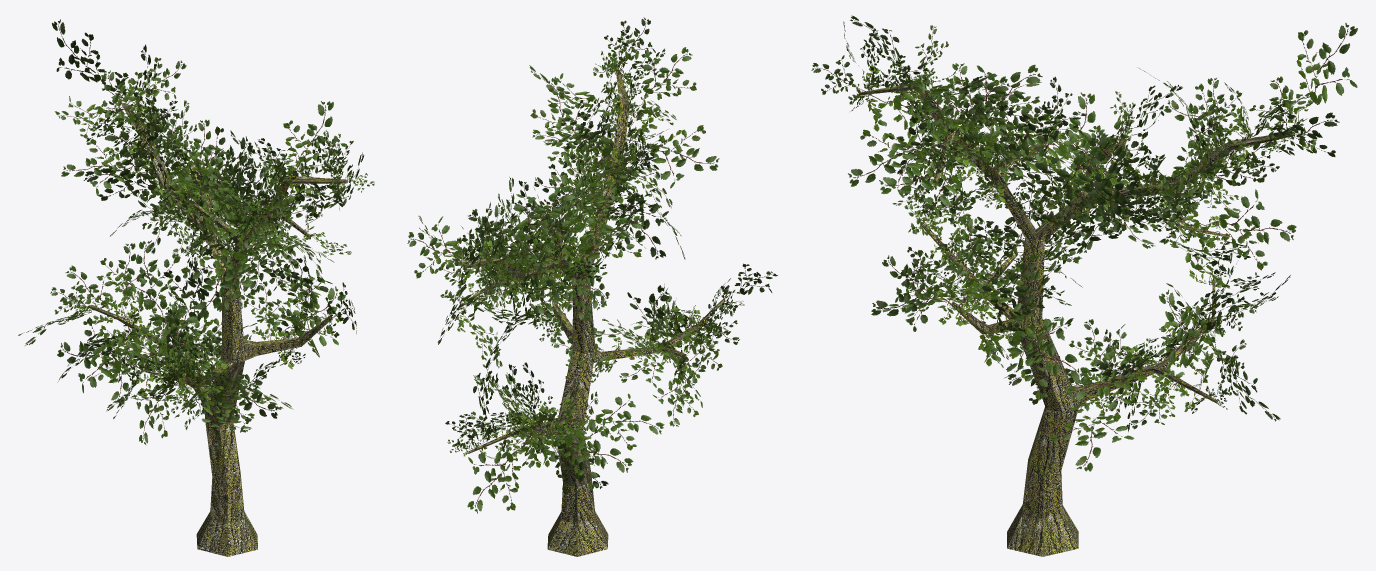
The model's file is Tree_1.fbx.
3 views of the same model, side by side, from view 1: azimuth 30°, elevation 25°; view 2: azimuth 150°, elevation 25°; view 3: azimuth 270°, elevation 25° (orthographic). The views are drawn at different scales.
Visible parts, largest first — view 1: Tree, Tree|Tree Branch|Dupli|113, Tree|Tree Branch|Dupli|188, Tree|Tree Branch|Dupli|193, Tree|Tree Branch|Dupli|176, Tree|Tree Branch|Dupli|99, Tree|Tree Branch|Dupli|44, Tree|Tree Branch|Dupli|67, Tree|Tree Branch|Dupli|52, Tree|Tree Branch|Dupli|55, Tree|Tree Branch|Dupli|10, Tree|Tree Branch|Dupli|85 (+38 smaller); view 2: Tree, Tree|Tree Branch|Dupli|68, Tree|Tree Branch|Dupli|23, Tree|Tree Branch|Dupli|46, Tree|Tree Branch|Dupli|71, Tree|Tree Branch|Dupli|171, Tree|Tree Branch|Dupli|35, Tree|Tree Branch|Dupli|97, Tree|Tree Branch|Dupli|130, Tree|Tree Branch|Dupli|108, Tree|Tree Branch|Dupli|111, Tree|Tree Branch|Dupli|176 (+34 smaller); view 3: Tree, Tree|Tree Branch|Dupli|58, Tree|Tree Branch|Dupli|99, Tree|Tree Branch|Dupli|92, Tree|Tree Branch|Dupli|31, Tree|Tree Branch|Dupli|167, Tree|Tree Branch|Dupli|144, Tree|Tree Branch|Dupli|117, Tree|Tree Branch|Dupli|64, Tree|Tree Branch|Dupli|111, Tree|Tree Branch|Dupli|160, Tree|Tree Branch|Dupli|105 (+35 smaller).
Boxes of the visible parts, x1,y1,x2,y2 form: Tree: (88, 102, 348, 556); Tree|Tree Branch|Dupli|113: (181, 222, 282, 319); Tree|Tree Branch|Dupli|188: (57, 317, 150, 398); Tree|Tree Branch|Dupli|193: (183, 365, 277, 432); Tree|Tree Branch|Dupli|176: (129, 289, 226, 379); Tree|Tree Branch|Dupli|99: (52, 19, 128, 115); Tree|Tree Branch|Dupli|44: (267, 101, 346, 193); Tree|Tree Branch|Dupli|67: (115, 240, 180, 345); Tree|Tree Branch|Dupli|52: (269, 258, 332, 334); Tree|Tree Branch|Dupli|55: (268, 283, 345, 369); Tree|Tree Branch|Dupli|10: (61, 139, 164, 195); Tree|Tree Branch|Dupli|85: (83, 156, 193, 214); Tree: (456, 68, 725, 556); Tree|Tree Branch|Dupli|68: (536, 406, 633, 490); Tree|Tree Branch|Dupli|23: (481, 185, 579, 269); Tree|Tree Branch|Dupli|46: (613, 117, 719, 188); Tree|Tree Branch|Dupli|71: (467, 415, 541, 513); Tree|Tree Branch|Dupli|171: (562, 393, 664, 450); Tree|Tree Branch|Dupli|35: (612, 47, 696, 117); Tree|Tree Branch|Dupli|97: (407, 216, 492, 283); Tree|Tree Branch|Dupli|130: (543, 209, 645, 278); Tree|Tree Branch|Dupli|108: (612, 156, 668, 259); Tree|Tree Branch|Dupli|111: (563, 117, 636, 182); Tree|Tree Branch|Dupli|176: (627, 285, 682, 349); Tree: (859, 83, 1295, 556); Tree|Tree Branch|Dupli|58: (977, 293, 1090, 400); Tree|Tree Branch|Dupli|99: (1281, 23, 1357, 150); Tree|Tree Branch|Dupli|92: (1181, 189, 1296, 270); Tree|Tree Branch|Dupli|31: (1000, 146, 1106, 226); Tree|Tree Branch|Dupli|167: (1157, 289, 1213, 411); Tree|Tree Branch|Dupli|144: (879, 141, 1005, 216); Tree|Tree Branch|Dupli|117: (848, 121, 968, 197); Tree|Tree Branch|Dupli|64: (1065, 322, 1177, 421); Tree|Tree Branch|Dupli|111: (932, 64, 1042, 146); Tree|Tree Branch|Dupli|160: (1048, 390, 1138, 471); Tree|Tree Branch|Dupli|105: (866, 65, 953, 157).
Size of the model in its own units: 1068 by 1654 by 1757.
2 materials, 2 textured.
